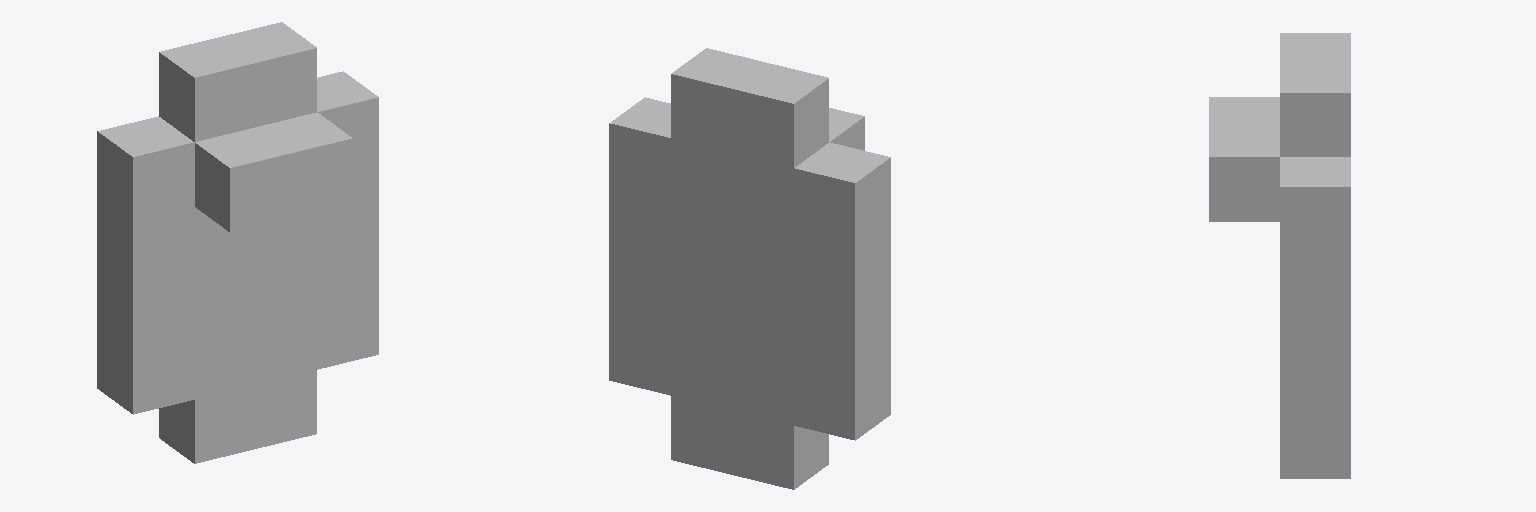
Rendered from switchOffRed.obj.
3 views of the same model, side by side, from view 1: azimuth 30°, elevation 25°; view 2: azimuth 150°, elevation 25°; view 3: azimuth 270°, elevation 25° (orthographic).
Parts seen in each view (by area): view 1: object 1; view 2: object 1; view 3: object 1.
Part boxes in pixels (left/top/right/bottom): object 1: left=97, top=22, right=378, bottom=463; object 1: left=609, top=48, right=890, bottom=489; object 1: left=1209, top=33, right=1350, bottom=478.
Size of the model in its own units: 0.4 by 0.6 by 0.2.